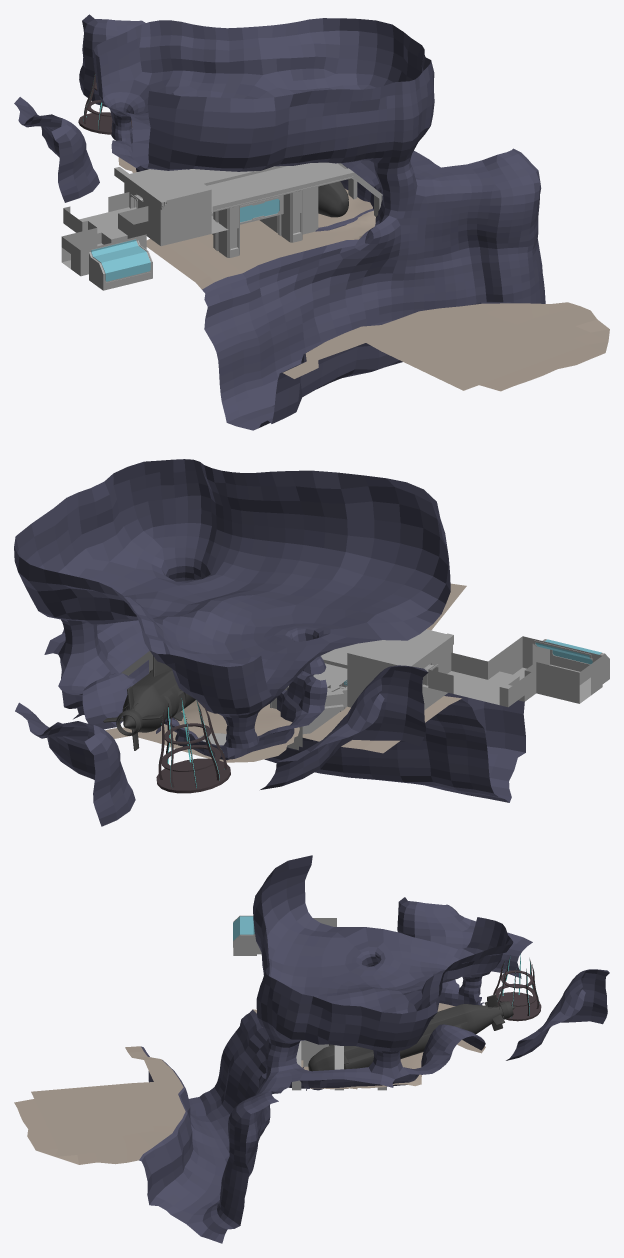
File: Cavern.fbx
3 renders of one model, top to bottom at view 1: azimuth 30°, elevation 25°; view 2: azimuth 150°, elevation 25°; view 3: azimuth 270°, elevation 25°, orthographic. The views are drawn at different scales.
Parts seen in each view (by area): view 1: polySurface154; view 2: polySurface154; view 3: polySurface154.
Boxes of the visible parts, x1,y1,x2,y2 form: polySurface154: (14,14,609,430); polySurface154: (14,459,609,826); polySurface154: (14,855,609,1243).
Size of the model in its own units: 83.39 by 50.69 by 112.
